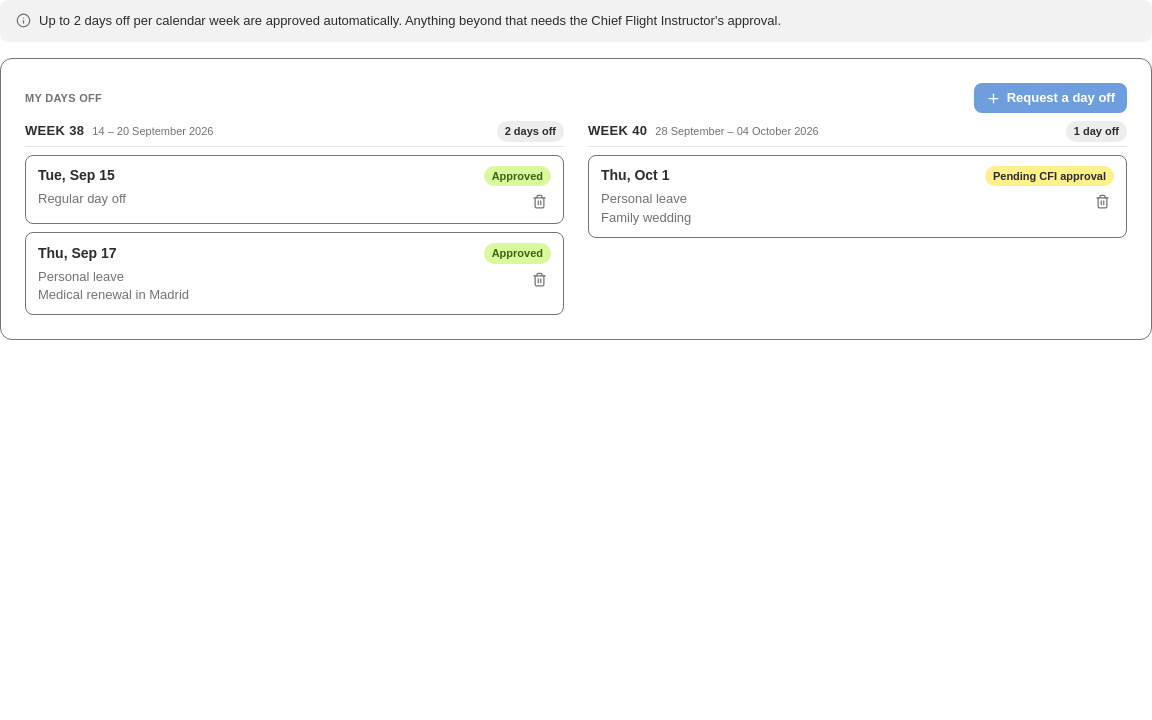
Test: InstructorAvailability › cancels a day off
Click the button named "Cancel day off on".
click(540, 202)  # box [528,190,551,213]
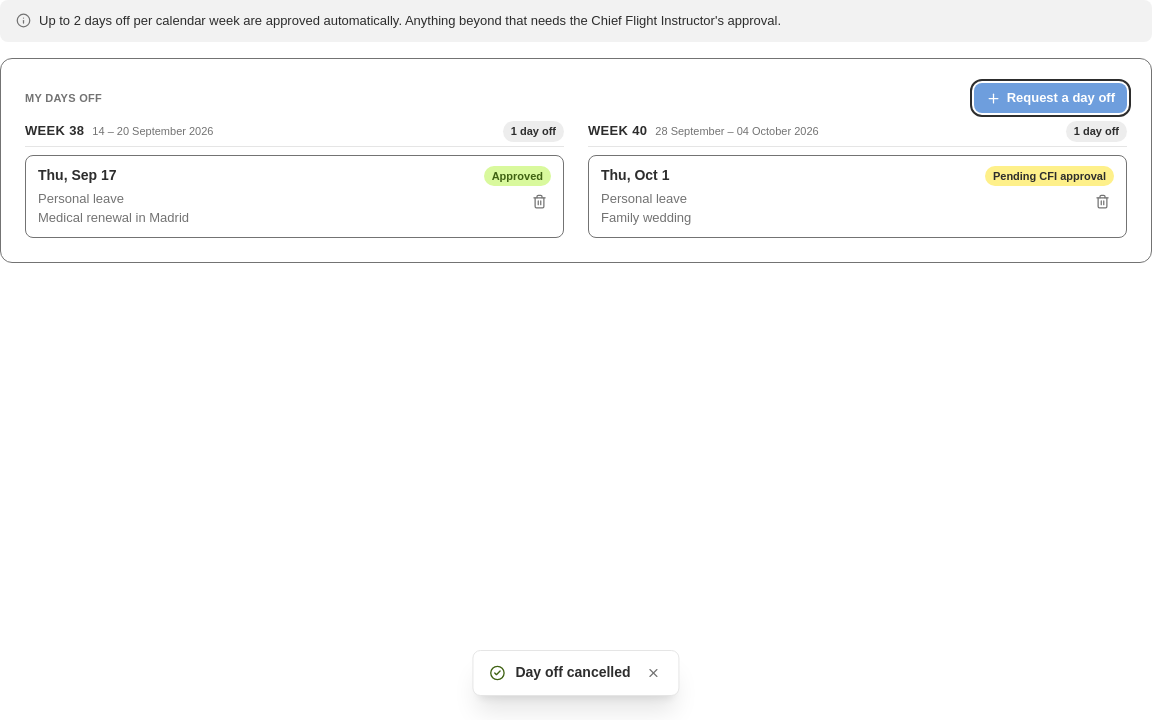
Result: the text "Day off cancelled" is shown at [515,663,631,683]
